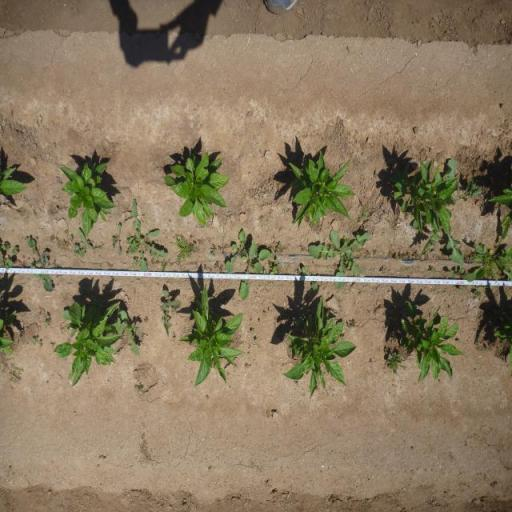plant: (282, 300, 357, 396), (180, 283, 246, 390), (387, 158, 458, 239), (56, 296, 118, 387), (286, 149, 356, 228), (163, 150, 230, 228), (401, 302, 463, 382), (60, 160, 117, 231), (495, 312, 512, 342)
weed: (310, 230, 370, 290), (126, 198, 168, 260), (473, 215, 512, 281), (240, 242, 268, 301), (28, 239, 56, 293), (115, 309, 144, 357), (159, 288, 182, 338), (226, 232, 246, 274), (176, 237, 194, 265), (302, 266, 320, 292), (387, 352, 407, 375), (78, 229, 93, 259), (111, 224, 123, 257), (6, 362, 24, 384), (450, 267, 474, 283), (292, 308, 306, 328), (472, 285, 490, 298), (270, 252, 280, 275), (0, 254, 13, 270), (268, 241, 281, 253), (30, 337, 42, 349), (347, 318, 357, 330), (134, 382, 144, 394), (44, 312, 51, 327), (210, 244, 217, 258), (160, 259, 167, 272), (0, 242, 10, 251), (74, 244, 80, 258), (92, 245, 106, 251), (458, 284, 468, 292), (18, 259, 26, 269), (400, 252, 411, 259), (218, 244, 225, 254), (12, 246, 18, 256), (150, 259, 160, 265), (172, 233, 180, 240), (413, 251, 420, 259), (143, 315, 150, 323), (133, 257, 139, 266), (50, 234, 57, 241), (197, 238, 203, 246), (20, 328, 26, 336), (219, 263, 224, 272), (202, 264, 208, 271), (61, 239, 66, 247), (395, 254, 400, 262), (430, 267, 436, 273), (214, 262, 219, 268), (301, 246, 306, 252), (250, 328, 255, 334), (384, 347, 388, 354), (24, 236, 30, 240), (64, 229, 68, 235), (70, 234, 73, 242), (193, 242, 197, 248), (382, 268, 386, 274), (254, 338, 258, 344), (189, 234, 194, 238), (180, 234, 183, 238), (264, 311, 266, 316), (258, 319, 260, 323)
